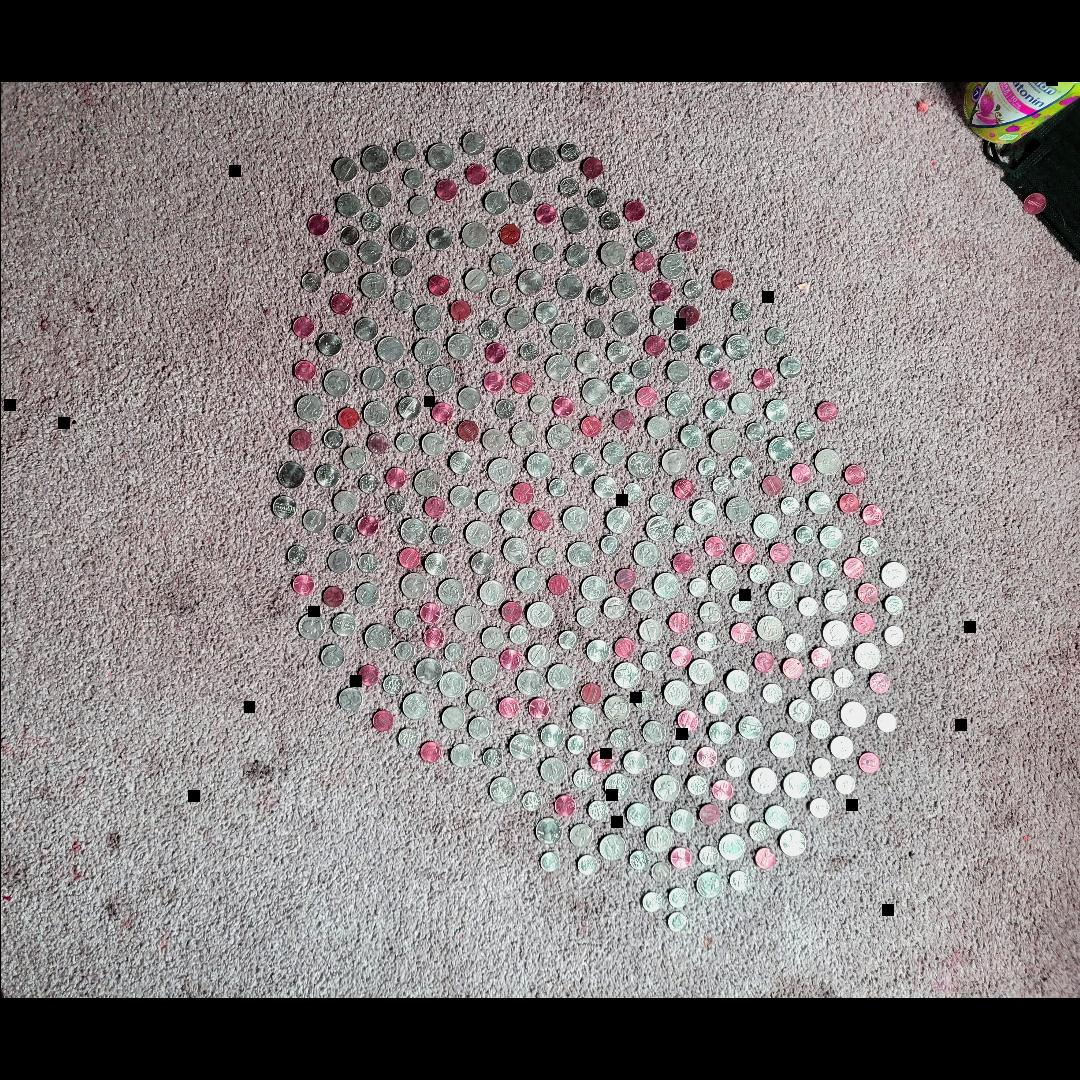Dime: (286, 546, 308, 566), (338, 226, 359, 246), (649, 862, 669, 882), (809, 719, 829, 739), (761, 684, 781, 704), (810, 758, 830, 778), (808, 798, 828, 818), (729, 872, 749, 892), (724, 758, 744, 778), (730, 594, 750, 614), (630, 360, 650, 380), (648, 494, 668, 514), (599, 536, 619, 556), (628, 850, 648, 870), (667, 912, 687, 932), (539, 852, 559, 872), (521, 792, 541, 812), (466, 690, 486, 710), (490, 288, 510, 308), (558, 178, 578, 198), (408, 195, 428, 215), (360, 212, 380, 232), (391, 258, 411, 278), (392, 292, 412, 312), (358, 474, 378, 494), (384, 494, 404, 514), (397, 728, 417, 748), (333, 524, 353, 544), (322, 430, 342, 450), (300, 272, 320, 292), (832, 669, 852, 688), (634, 691, 654, 710), (481, 749, 501, 768), (764, 327, 784, 345), (884, 626, 902, 646), (876, 714, 896, 732), (794, 526, 814, 544), (834, 776, 854, 794), (698, 847, 718, 865), (730, 804, 748, 824), (748, 824, 768, 842), (666, 748, 686, 766), (696, 632, 714, 652), (749, 564, 767, 584), (688, 578, 706, 598), (745, 422, 763, 442), (732, 302, 750, 322), (683, 280, 701, 300), (576, 607, 594, 627), (608, 730, 628, 748), (588, 800, 606, 820), (668, 888, 686, 908), (642, 892, 660, 912), (566, 736, 586, 754), (443, 644, 463, 662), (508, 626, 528, 644), (494, 400, 514, 418), (518, 343, 538, 361), (480, 320, 498, 340), (394, 371, 414, 389), (357, 554, 377, 572), (394, 610, 414, 628), (395, 642, 413, 662), (382, 676, 402, 694), (587, 188, 605, 208), (859, 538, 877, 557), (669, 334, 688, 352), (534, 243, 552, 262), (396, 434, 414, 453), (884, 596, 902, 614), (785, 634, 803, 652), (798, 598, 816, 616), (818, 560, 836, 578), (780, 498, 798, 516), (796, 423, 814, 441), (687, 777, 705, 795), (674, 527, 692, 545), (712, 477, 730, 495), (697, 459, 715, 477), (636, 231, 654, 249), (600, 212, 618, 230), (589, 288, 607, 306), (586, 320, 604, 338), (622, 484, 640, 502), (641, 653, 659, 671), (572, 770, 590, 788), (577, 856, 595, 874), (558, 632, 576, 650), (537, 548, 555, 566), (548, 479, 566, 497), (529, 396, 547, 414), (560, 144, 578, 162), (404, 170, 422, 188), (396, 142, 414, 160), (432, 527, 450, 545)
Nickel: (821, 588, 847, 614), (356, 240, 382, 264), (818, 525, 842, 549), (641, 720, 665, 744), (568, 824, 592, 848), (337, 687, 361, 711), (327, 550, 351, 574), (332, 158, 356, 182), (324, 250, 348, 274), (360, 367, 384, 391), (526, 644, 550, 668), (448, 451, 472, 475), (764, 805, 788, 829), (564, 244, 588, 268), (498, 510, 524, 532), (626, 804, 650, 827), (669, 810, 692, 834), (698, 601, 722, 624), (341, 446, 365, 469), (476, 490, 499, 514), (355, 317, 378, 341), (333, 490, 356, 514), (330, 614, 353, 638), (586, 640, 609, 664), (508, 181, 532, 204), (366, 184, 389, 208), (601, 443, 624, 466), (572, 454, 595, 477), (480, 428, 503, 451), (421, 432, 444, 455), (396, 396, 419, 419), (483, 192, 506, 215), (645, 417, 668, 440), (828, 737, 852, 759), (622, 752, 646, 774), (630, 589, 654, 611), (765, 399, 787, 423), (678, 425, 702, 447), (462, 132, 484, 156), (535, 302, 557, 326), (336, 193, 358, 217), (271, 496, 295, 518), (302, 510, 326, 532), (440, 707, 464, 729), (356, 583, 378, 607), (448, 486, 472, 508), (592, 476, 616, 498), (666, 360, 688, 384), (788, 562, 812, 584), (726, 670, 748, 694), (810, 678, 832, 702), (316, 334, 340, 356), (450, 744, 472, 768), (540, 724, 562, 748), (481, 626, 503, 650), (490, 253, 512, 277), (704, 691, 726, 715), (708, 722, 730, 746), (788, 699, 810, 723), (703, 399, 725, 422), (778, 356, 800, 379), (652, 307, 674, 330), (320, 645, 342, 668), (428, 228, 451, 250), (316, 465, 338, 488), (730, 392, 752, 415), (639, 620, 661, 642), (730, 458, 752, 480), (606, 342, 628, 364), (468, 718, 490, 740), (458, 388, 480, 410), (464, 270, 486, 292), (424, 553, 446, 575), (570, 707, 592, 729), (603, 598, 625, 620), (611, 374, 633, 396), (576, 352, 598, 374), (506, 308, 528, 330), (738, 717, 760, 739), (471, 553, 493, 575), (698, 345, 720, 367), (808, 492, 828, 514)
Penny: (499, 600, 520, 624), (418, 742, 440, 764), (614, 568, 636, 590), (612, 410, 634, 432), (423, 496, 445, 518), (397, 548, 419, 570), (484, 342, 506, 364), (580, 157, 602, 179), (434, 179, 456, 201), (292, 360, 314, 382), (336, 408, 358, 430), (384, 467, 406, 489), (321, 586, 343, 608), (852, 612, 873, 634), (703, 536, 724, 558), (632, 251, 653, 273), (290, 574, 312, 595), (371, 711, 392, 732), (330, 294, 351, 315), (290, 429, 311, 450), (754, 848, 776, 868), (752, 652, 774, 672), (729, 623, 751, 643), (669, 646, 691, 666), (752, 368, 772, 390), (498, 650, 520, 670), (590, 752, 610, 774), (634, 387, 656, 407), (430, 402, 452, 422), (676, 306, 698, 326), (642, 336, 664, 356), (534, 203, 554, 225), (464, 164, 486, 184), (428, 274, 448, 296), (306, 215, 328, 235), (366, 433, 388, 453), (356, 516, 378, 536), (356, 666, 378, 686), (698, 805, 719, 825), (677, 711, 697, 732), (768, 544, 788, 565), (528, 698, 548, 719), (498, 697, 518, 718), (422, 628, 443, 648), (614, 639, 634, 660), (512, 484, 532, 505), (530, 509, 550, 530), (552, 396, 572, 417), (483, 371, 503, 392), (624, 200, 644, 221), (291, 317, 312, 337), (858, 753, 878, 773), (869, 673, 889, 693), (670, 849, 690, 869), (712, 780, 732, 800), (695, 748, 715, 768), (782, 659, 802, 679), (810, 648, 830, 668), (857, 584, 877, 604), (843, 558, 863, 578), (862, 506, 882, 526), (816, 402, 836, 422), (761, 474, 781, 494), (667, 613, 687, 633), (673, 479, 693, 499), (554, 796, 574, 816), (547, 576, 567, 596), (580, 684, 600, 704), (580, 416, 600, 436), (711, 270, 731, 290), (676, 231, 696, 251), (500, 224, 520, 244), (450, 300, 470, 320), (456, 422, 478, 440), (419, 603, 439, 622), (512, 374, 530, 395), (648, 282, 669, 300), (838, 494, 858, 512), (845, 466, 863, 486), (791, 463, 809, 483), (733, 544, 753, 562), (672, 554, 692, 572), (710, 371, 730, 389)
Quarter: (294, 396, 324, 422), (375, 336, 402, 364), (694, 873, 722, 899), (652, 774, 678, 802), (276, 463, 304, 489), (296, 614, 324, 640), (534, 818, 562, 844), (686, 660, 714, 686), (749, 769, 775, 796), (718, 835, 744, 862), (364, 624, 391, 650), (488, 777, 514, 804), (538, 758, 565, 784), (414, 659, 442, 684), (756, 616, 782, 642), (782, 773, 808, 799), (778, 830, 804, 856), (690, 499, 716, 525), (660, 449, 686, 475), (652, 573, 678, 599), (426, 143, 452, 169), (361, 147, 387, 173), (460, 223, 486, 249), (446, 333, 472, 359), (362, 402, 388, 428), (413, 470, 439, 496), (400, 518, 426, 544), (402, 694, 428, 720), (438, 672, 464, 698), (508, 734, 534, 760), (603, 696, 629, 722), (612, 662, 638, 688), (546, 664, 572, 690), (516, 670, 542, 696), (515, 568, 541, 594), (526, 602, 552, 628), (580, 576, 606, 602), (502, 538, 528, 564), (604, 508, 630, 534), (644, 516, 670, 542), (546, 424, 572, 450), (509, 421, 535, 447), (544, 355, 570, 381), (598, 242, 624, 268), (610, 273, 636, 299), (611, 312, 637, 338), (527, 148, 553, 174), (562, 208, 588, 234), (710, 429, 736, 455), (766, 437, 792, 463), (322, 372, 350, 396), (452, 608, 480, 632), (566, 542, 592, 567), (526, 453, 551, 479), (557, 274, 582, 300), (725, 334, 750, 360), (426, 368, 453, 392), (645, 828, 672, 852), (551, 324, 575, 351), (518, 270, 543, 295), (768, 583, 792, 609), (822, 622, 848, 646), (768, 734, 794, 758), (840, 702, 864, 728), (854, 643, 878, 669), (880, 563, 904, 589), (414, 306, 440, 330), (413, 340, 439, 364), (389, 226, 415, 250), (360, 274, 386, 298), (400, 574, 426, 598), (598, 836, 624, 860), (604, 774, 628, 800), (438, 579, 462, 605), (478, 581, 504, 605), (632, 542, 658, 566), (464, 521, 488, 547), (562, 508, 588, 532), (626, 454, 652, 478), (487, 460, 513, 484), (582, 379, 606, 405), (496, 148, 520, 174), (666, 391, 690, 417), (752, 514, 776, 540), (470, 659, 494, 684), (660, 255, 684, 280), (725, 498, 750, 522), (664, 681, 688, 706), (710, 566, 734, 590), (814, 450, 838, 474)
